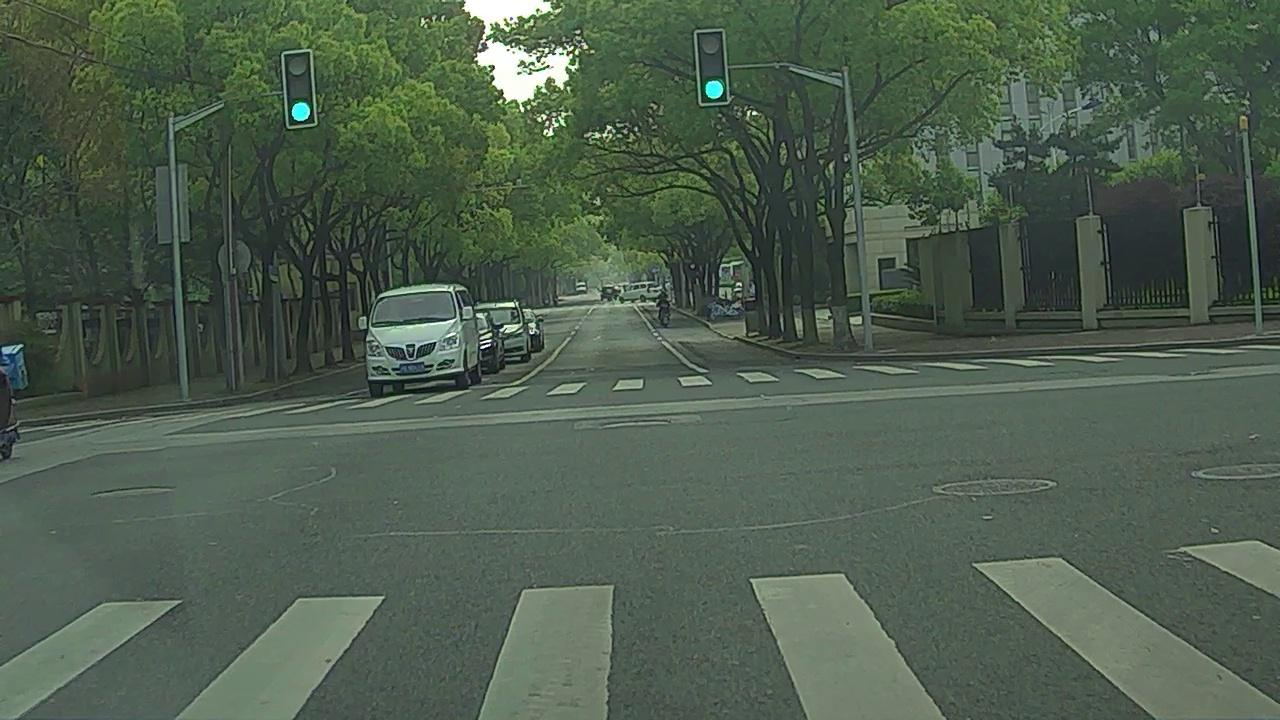traffic_light: (288, 54, 316, 123), (698, 31, 725, 101)
